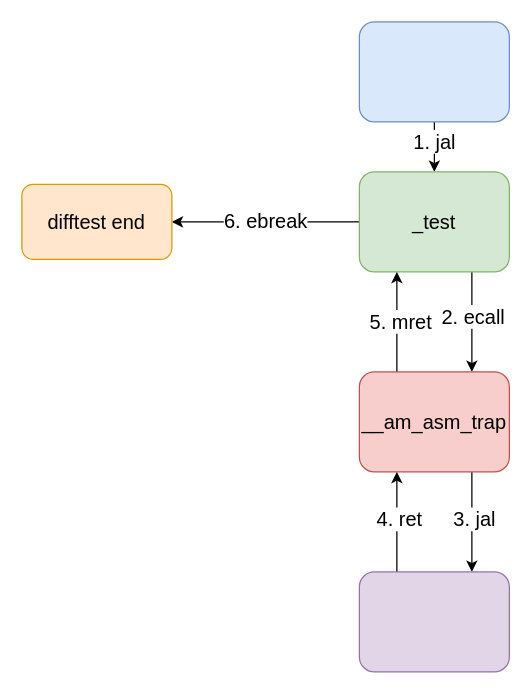
The diagram is 531 pixels wide and 694 high, and some of its shapes have lost their labels. The centre of each missing label's shape, as x and y in pixels:
"_init_system" belongs at [433,71].
"trap_handler" belongs at [433,621].
